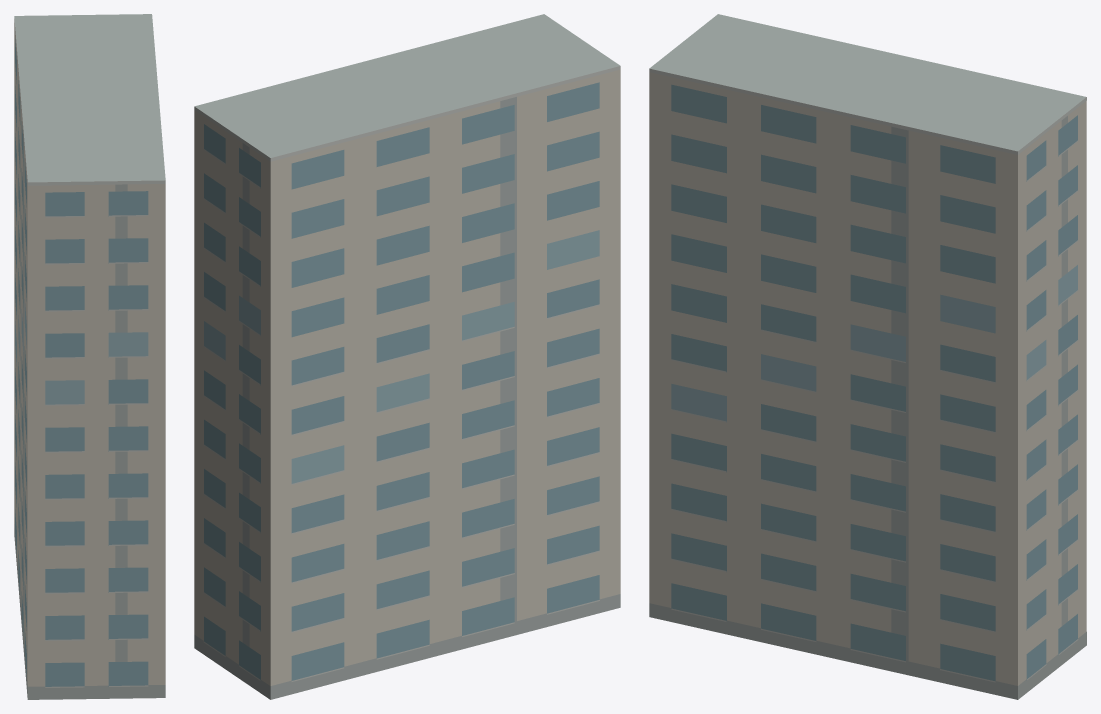
The model's file is residential-e611d067-6ab5-46ad-9f0b-8bbafea1f99a.glb.
3 renders of one model, left to right at view 1: azimuth 30°, elevation 25°; view 2: azimuth 150°, elevation 25°; view 3: azimuth 270°, elevation 25°, orthographic. The views are drawn at different scales.
Parts seen in each view (by area): view 1: residential-e611d067-6ab5-46ad-9f0b-8bbafea1f99a.tmp; view 2: residential-e611d067-6ab5-46ad-9f0b-8bbafea1f99a.tmp; view 3: residential-e611d067-6ab5-46ad-9f0b-8bbafea1f99a.tmp.
Part boxes in pixels (<box>): residential-e611d067-6ab5-46ad-9f0b-8bbafea1f99a.tmp: <box>14,14,165,699</box>; residential-e611d067-6ab5-46ad-9f0b-8bbafea1f99a.tmp: <box>194,14,620,699</box>; residential-e611d067-6ab5-46ad-9f0b-8bbafea1f99a.tmp: <box>649,14,1086,699</box>.
Size of the model in its own units: 19.9 by 37 by 26.76.
